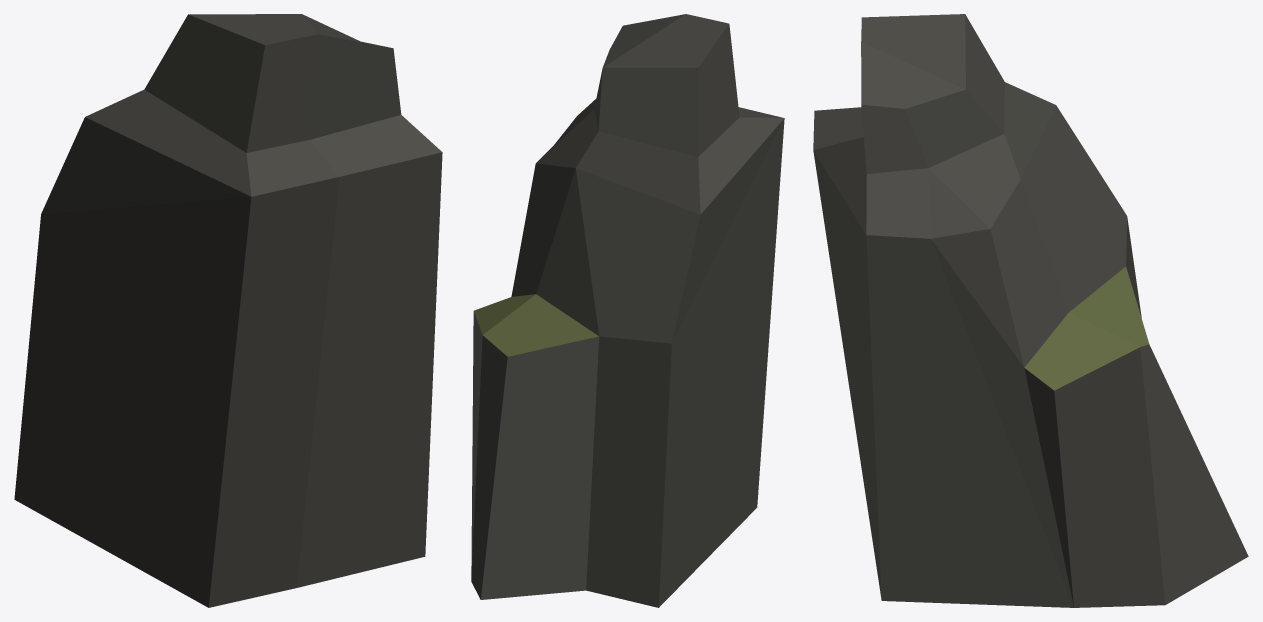
The model's file is Cliff_Big_003.fbx.
3 views of the same model, side by side, from view 1: azimuth 30°, elevation 25°; view 2: azimuth 150°, elevation 25°; view 3: azimuth 270°, elevation 25° (orthographic). The views are drawn at different scales.
Visible parts, largest first — view 1: Rock_1; view 2: Rock_1; view 3: Rock_1.
Part boxes in pixels (box(x1,y1,x2,y2)): Rock_1: box(14, 14, 442, 607); Rock_1: box(471, 14, 784, 607); Rock_1: box(813, 14, 1248, 607).
Bounding box in the file's own units: 967 × 1894 × 1423.
